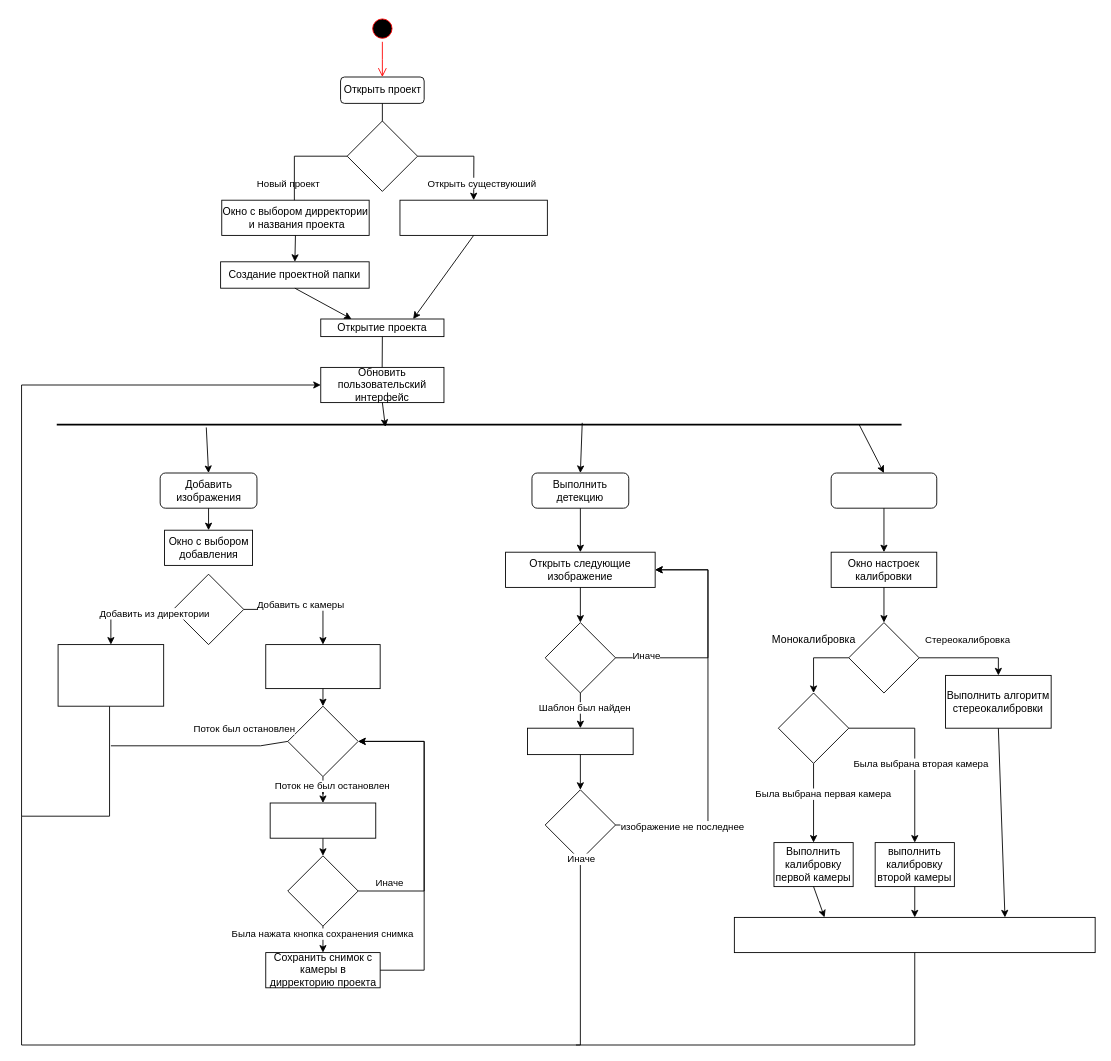
Some shapes in this 1111 by 1061 pixel diagram are drawn without their labels. The box of each missing label's shape, as (x1, y1, x2, y2) in pixels:
Выполнить калиброку: (830, 472, 937, 508)
Запустить поток видеозахвата с камеры: (265, 644, 380, 689)
Окно с выбором дирректории: (399, 199, 547, 235)
Показать на экране изображение: (269, 802, 376, 838)
Скопировть изображения из указанных дирректорий в папку проекта: (57, 644, 164, 706)
Сохранить результаты калибровки: (733, 917, 1095, 953)
Сохранить точки шаблона: (527, 727, 633, 755)
